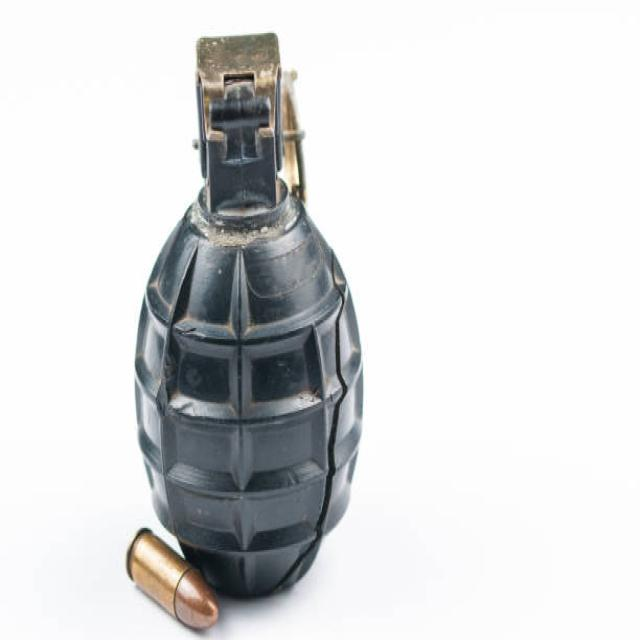grenade: (128, 23, 366, 612)
